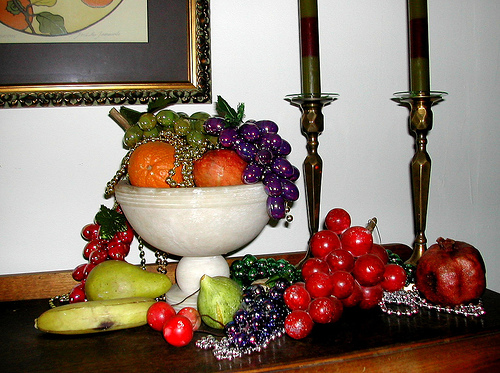pomogranate: (412, 233, 489, 310), (191, 147, 249, 188)
